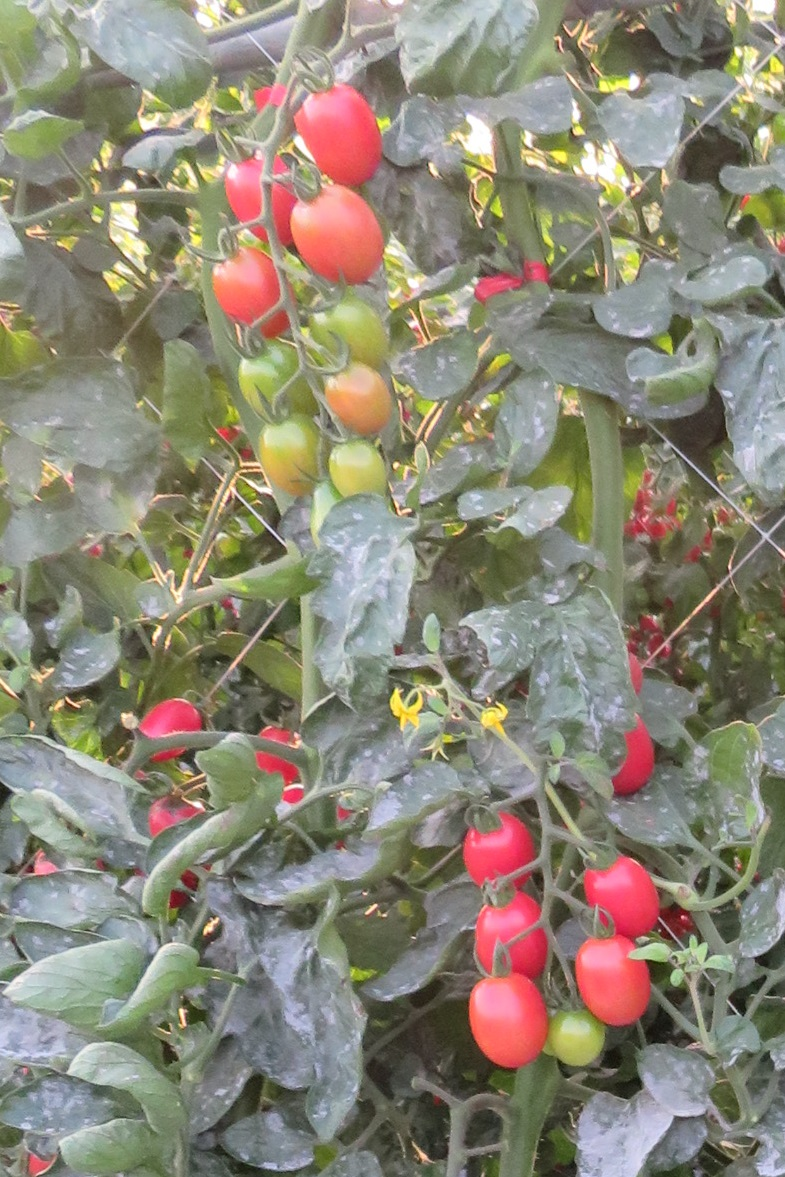green: (252, 415, 323, 510), (304, 294, 396, 360), (229, 346, 309, 416), (321, 359, 395, 431), (547, 1006, 613, 1085), (327, 444, 395, 499)
orange: (286, 181, 387, 287), (467, 968, 553, 1074), (296, 73, 384, 174), (571, 928, 662, 1024), (210, 249, 284, 339), (585, 859, 670, 937), (462, 811, 535, 896), (475, 898, 547, 970)
red: (131, 698, 206, 759), (603, 718, 658, 799), (246, 728, 307, 783)
